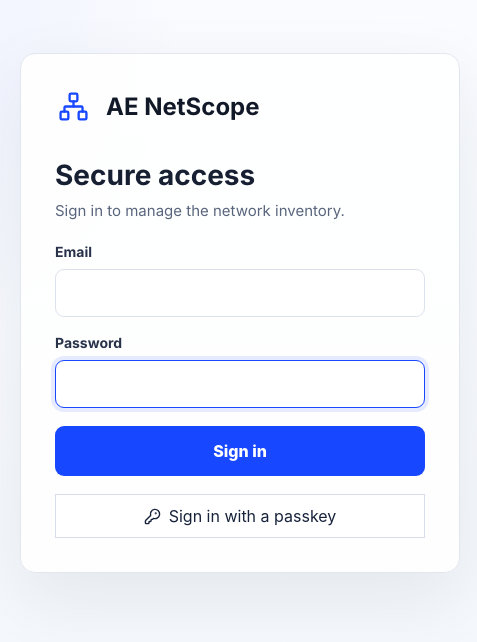
Test: LoginScreen › explains rate limits and outages instead of blaming the credentials
Type "admin@example.com" into the field labelled "Email" at (240, 293), box [55,269,425,317]
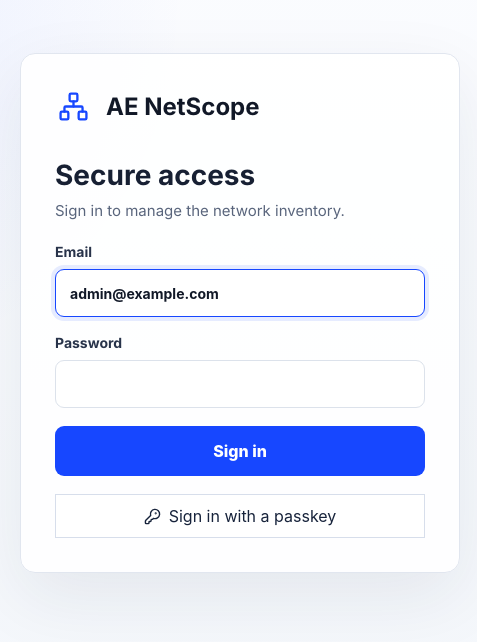
Type "a-password" into the password field labelled "Password" at (240, 384), box [55,360,425,408]
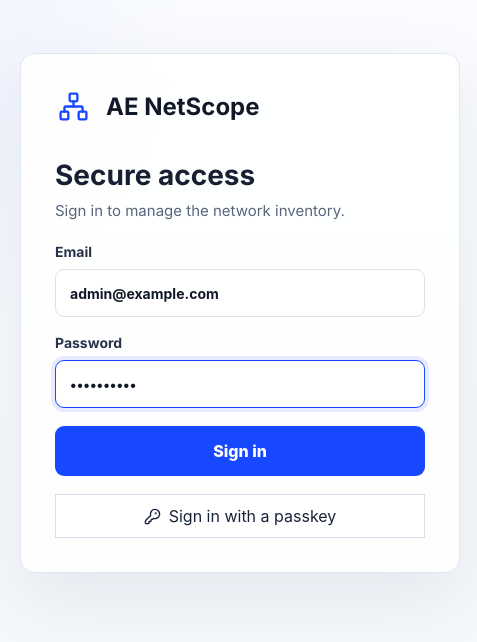
Click the button "Sign in" at (240, 451), box [55,426,425,476]
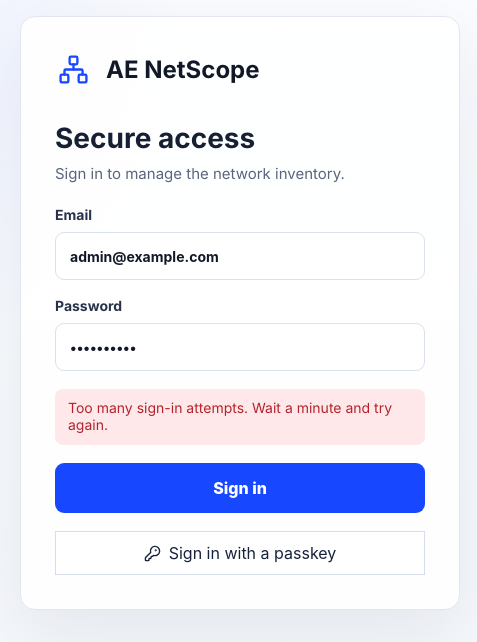
Now the text "Too many sign-in attempts. Wait a minute and try again." is shown, box [55,389,425,445]
Click the button "Sign in" at (240, 488), box [55,463,425,513]
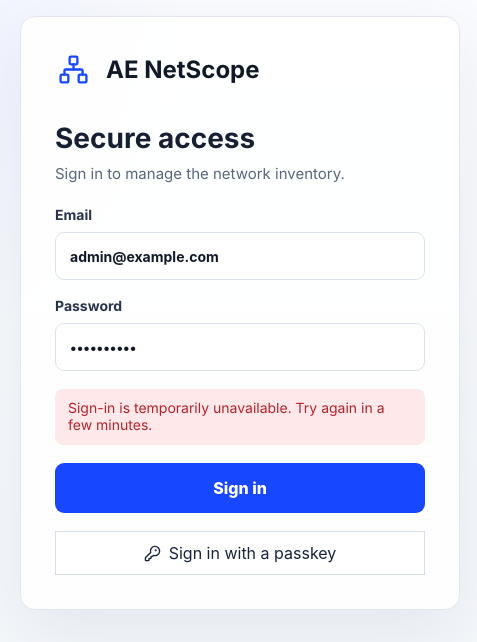
Now the text "Sign-in is temporarily unavailable. Try again in a few minutes." is shown, box [55,389,425,445]
